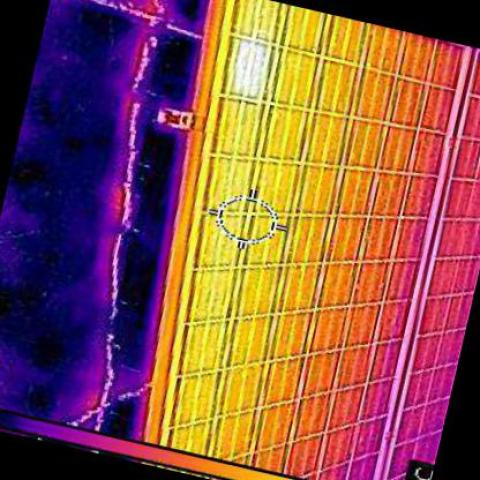fault: (231, 29, 266, 96)
